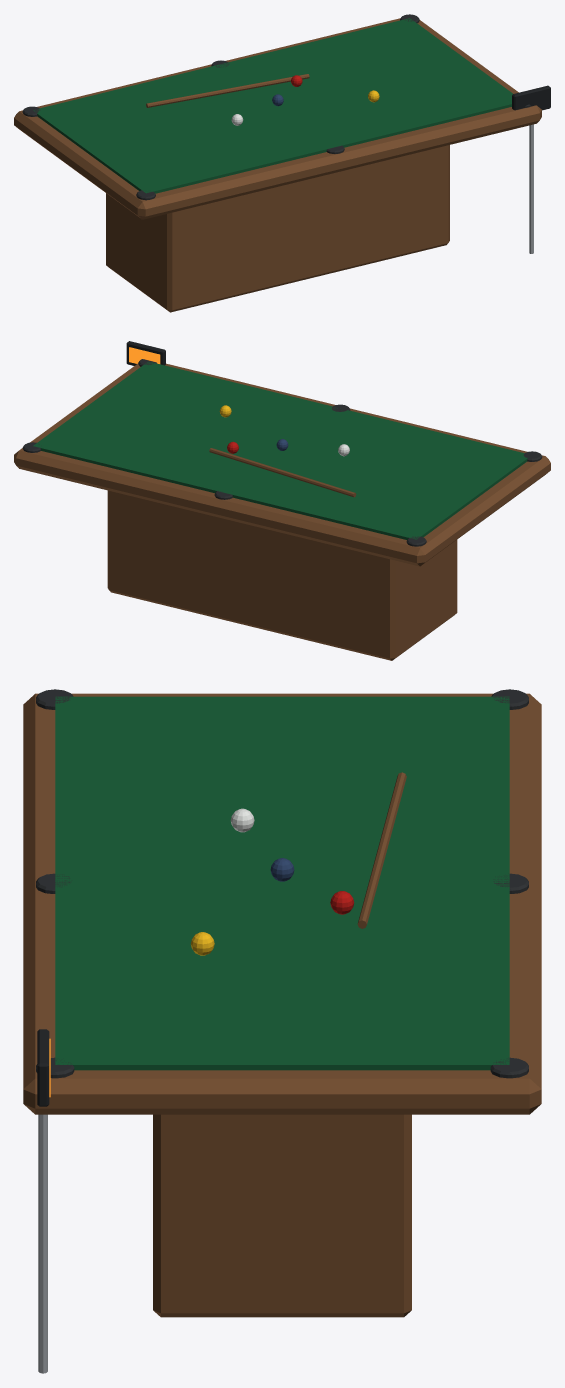
File: games_table.glb
3 renders of one model, top to bottom at view 1: azimuth 30°, elevation 25°; view 2: azimuth 150°, elevation 25°; view 3: azimuth 270°, elevation 25°, orthographic. The views are drawn at different scales.
Parts seen in each view (by area): view 1: games_table; view 2: games_table; view 3: games_table.
Part boxes in pixels (x1,y1,x2,y2): games_table: (14,14,550,312); games_table: (14,341,550,660); games_table: (23,689,541,1373).
Size of the model in its own units: 2.4 by 0.9 by 1.3.
